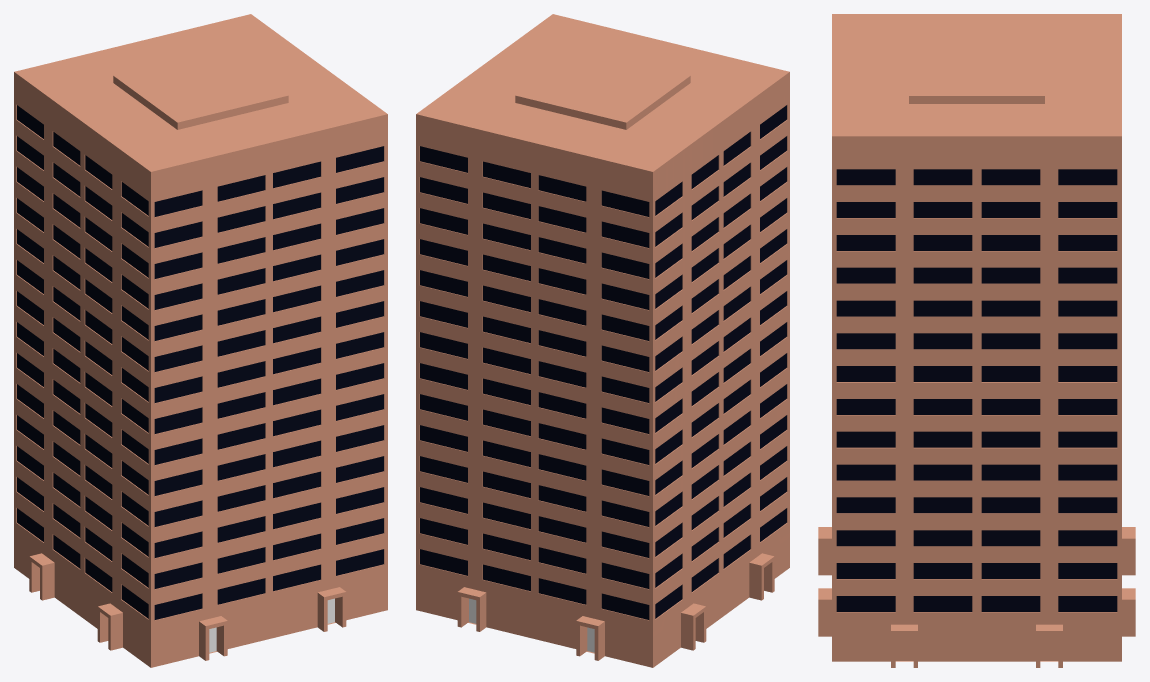
3 renders of one model, left to right at view 1: azimuth 30°, elevation 25°; view 2: azimuth 150°, elevation 25°; view 3: azimuth 270°, elevation 25°, orthographic. The views are drawn at different scales.
Visible parts, largest first — view 1: Cube.035; view 2: Cube.035; view 3: Cube.035.
Boxes of the visible parts, x1,y1,x2,y2 form: Cube.035: [14, 14, 387, 667]; Cube.035: [416, 14, 789, 667]; Cube.035: [818, 14, 1135, 667].
Bounding box in the file's own units: 442 × 812 × 439.
